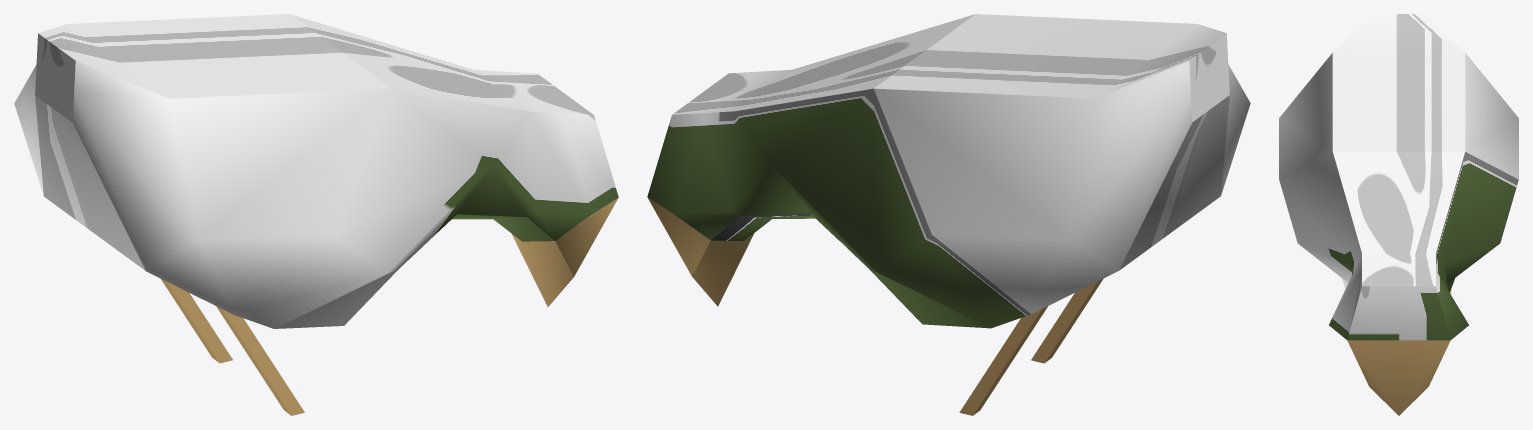
Rendered from bird2.fbx.
The picture shows the model from 3 angles, left to right: view 1: azimuth 30°, elevation 25°; view 2: azimuth 150°, elevation 25°; view 3: azimuth 270°, elevation 25°; orthographic projection. The views are drawn at different scales.
Parts seen in each view (by area): view 1: pCube51, pCube52, pCube53; view 2: pCube51, pCube53, pCube52; view 3: pCube51.
Boxes of the visible parts, x1,y1,x2,y2 form: pCube51: (14, 14, 618, 328); pCube52: (216, 306, 304, 415); pCube53: (161, 279, 232, 363); pCube51: (647, 14, 1250, 328); pCube53: (959, 306, 1047, 415); pCube52: (1031, 278, 1103, 363); pCube51: (1279, 14, 1518, 415).
Bounding box in the file's own units: 2.62 × 1.85 × 1.6.
